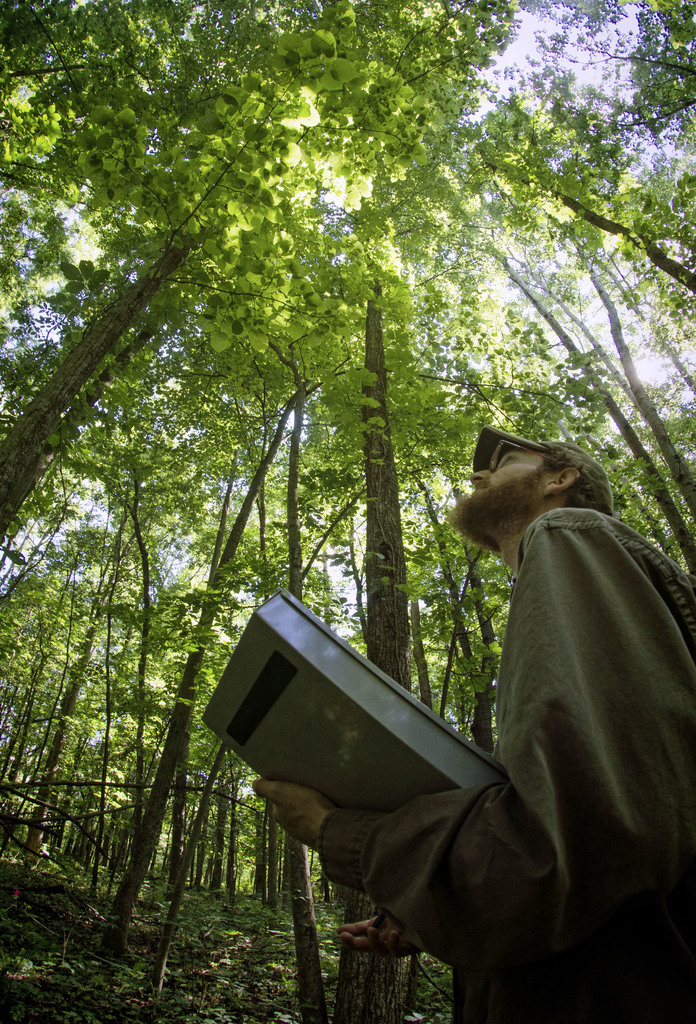Tree: (3, 0, 695, 1023)
